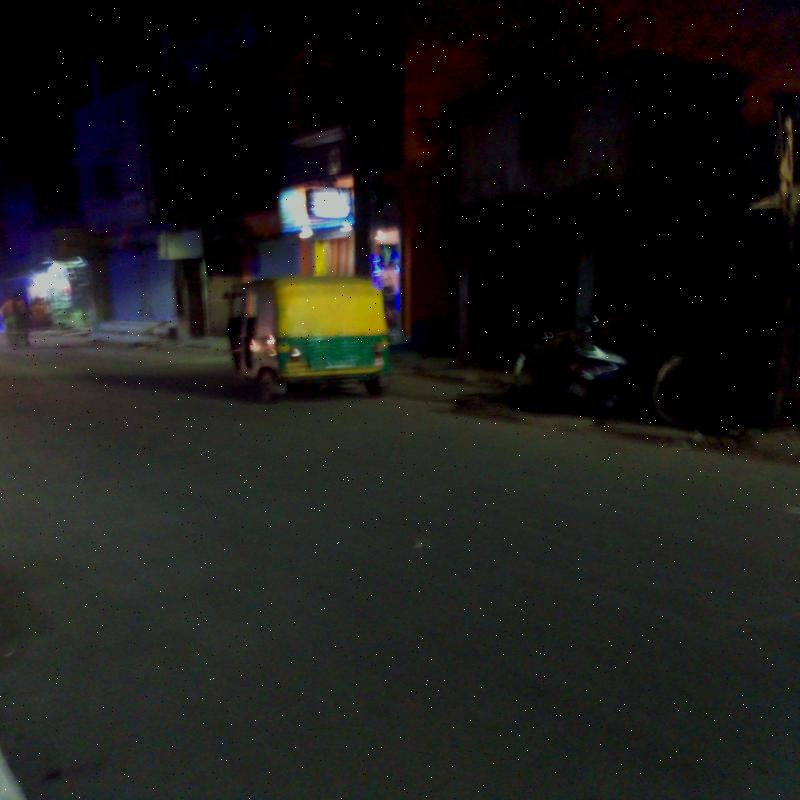auto: (235, 286, 384, 410)
